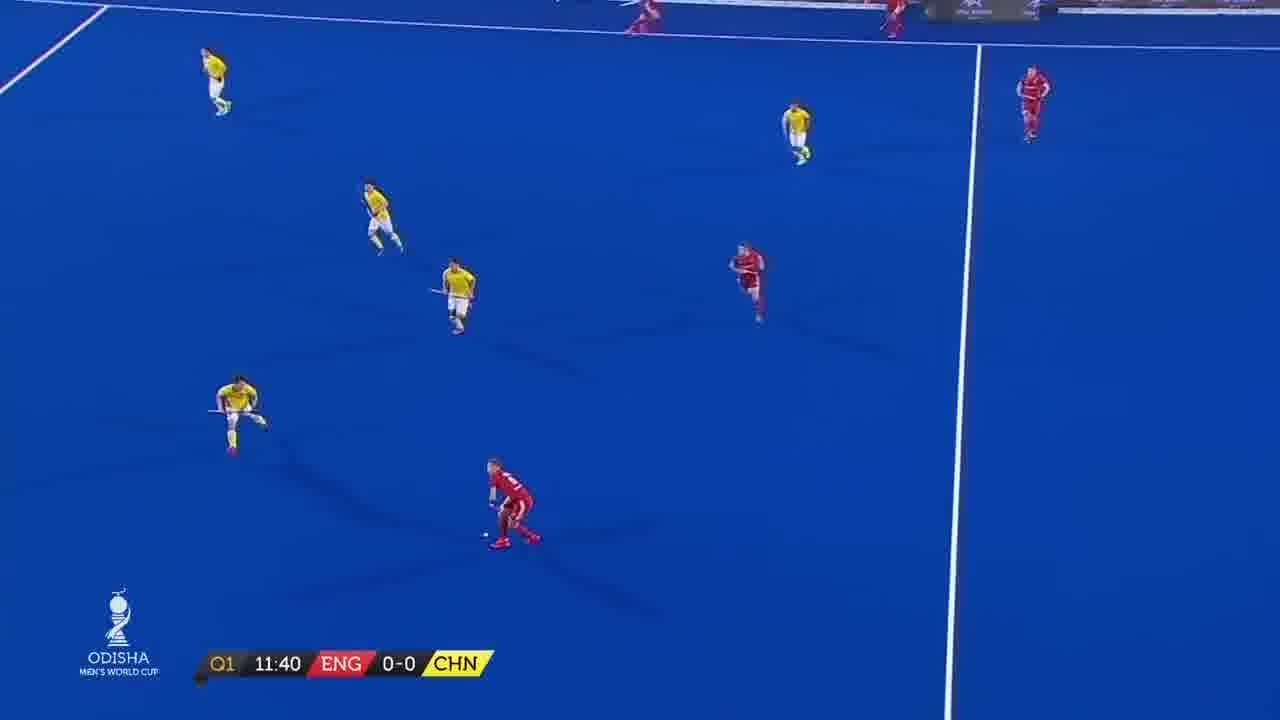ball: (477, 530, 493, 539)
